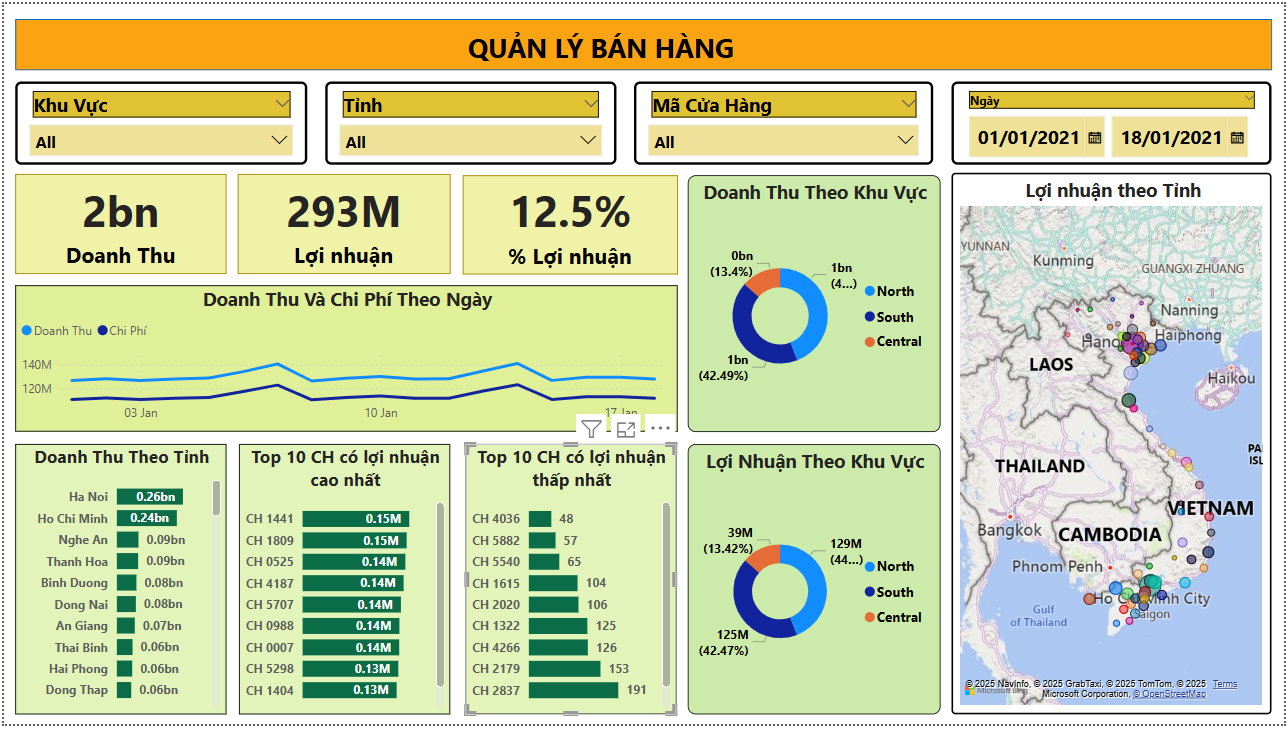

The page's visual inventory and layout, read from the dashboard file:
{"tool":"powerbi","page":{"name":"Page 1","canvas":[1280,720],"ordinal":0},"visuals":[{"type":"shape","box":[11,14.7,1257.1,51.4],"z":0},{"type":"textbox","box":[458.6,19.6,362,46.5],"z":1000},{"type":"slicer","fields":{"Values":["DS Tinh.Khu Vực"]},"box":[11,77,292.3,83.2],"z":2000},{"type":"slicer","fields":{"Values":["DS Tinh.Tỉnh"]},"box":[321.6,77,291,83.2],"z":3000},{"type":"slicer","fields":{"Values":["DS Cua Hang.Mã Cửa Hàng"]},"box":[629.8,77,299.6,83.2],"z":4000},{"type":"slicer","fields":{"Values":["Ket Qua KD.Ngày"]},"box":[947.7,77,320.4,83.2],"z":5000},{"type":"card","fields":{"Values":["Sum(Ket Qua KD.Doanh Thu)"]},"box":[11,170,211.6,100.3],"z":6000},{"type":"card","fields":{"Values":["Sum(Ket Qua KD.Lợi nhuận)"]},"box":[234.2,170,212.8,100.3],"z":7000},{"type":"card","fields":{"Values":["DS Cua Hang.% Lợi nhuận"]},"box":[458.6,171.2,215.2,99],"z":8000},{"type":"lineChart","title":"Doanh Thu Và Chi Phí Theo Ngày","fields":{"Y":["Sum(Ket Qua KD.Doanh Thu)","Sum(Ket Qua KD.Chi Phí)"],"Category":["Ket Qua KD.Ngày"]},"box":[11,281.3,662.8,146.7],"z":9000},{"type":"map","title":"Lợi nhuận theo Tỉnh","fields":{"Series":["DS Tinh.Tỉnh"],"Y":["DS Tinh.latitude"],"X":["DS Tinh.longitude"],"Size":["Sum(Ket Qua KD.Lợi nhuận)"]},"box":[947.7,168.8,320.4,541.7],"z":9001},{"type":"donutChart","title":"Doanh Thu Theo Khu Vực","fields":{"Y":["Sum(Ket Qua KD.Doanh Thu)"],"Category":["DS Tinh.Khu Vực"]},"box":[683.6,171.2,253.1,256.8],"z":9002},{"type":"donutChart","title":"Lợi Nhuận Theo Khu Vực","fields":{"Category":["DS Tinh.Khu Vực"],"Y":["Sum(Ket Qua KD.Lợi nhuận)"]},"box":[683.6,440.2,253.1,270.2],"z":9003},{"type":"barChart","title":"Doanh Thu Theo Tỉnh","fields":{"Category":["DS Tinh.Tỉnh"],"Y":["Sum(Ket Qua KD.Doanh Thu)"]},"box":[11,440.2,211.6,270.2],"z":9006},{"type":"barChart","title":"Top 10 CH có lợi nhuận cao nhất","fields":{"Category":["DS Cua Hang.Mã Cửa Hàng"],"Y":["Sum(Ket Qua KD.Lợi nhuận)"]},"box":[235.4,440.2,211.6,270.2],"z":9007},{"type":"barChart","title":"Top 10 CH có lợi nhuận thấp nhất","fields":{"Y":["Sum(Ket Qua KD.Lợi nhuận)"],"Category":["DS Cua Hang.Mã Cửa Hàng"]},"box":[461.1,440.5,211.3,270.3],"z":9008}]}

Visuals, with their boxes in screenshot pixels (x1, y1, x2, y2), scaled from the page's 1280x720 canvas onto the 1288x730 screenshot:
shape: l=11, t=15, r=1276, b=67
textbox: l=461, t=20, r=826, b=67
slicer - DS Tinh.Khu Vực: l=11, t=78, r=305, b=162
slicer - DS Tinh.Tỉnh: l=324, t=78, r=616, b=162
slicer - DS Cua Hang.Mã Cửa Hàng: l=634, t=78, r=935, b=162
slicer - Ket Qua KD.Ngày: l=954, t=78, r=1276, b=162
card - Sum(Ket Qua KD.Doanh Thu): l=11, t=172, r=224, b=274
card - Sum(Ket Qua KD.Lợi nhuận): l=236, t=172, r=450, b=274
card - DS Cua Hang.% Lợi nhuận: l=461, t=174, r=678, b=274
"Doanh Thu Và Chi Phí Theo Ngày" lineChart: l=11, t=285, r=678, b=434
"Lợi nhuận theo Tỉnh" map: l=954, t=171, r=1276, b=720
"Doanh Thu Theo Khu Vực" donutChart: l=688, t=174, r=943, b=434
"Lợi Nhuận Theo Khu Vực" donutChart: l=688, t=446, r=943, b=720
"Doanh Thu Theo Tỉnh" barChart: l=11, t=446, r=224, b=720
"Top 10 CH có lợi nhuận cao nhất" barChart: l=237, t=446, r=450, b=720
"Top 10 CH có lợi nhuận thấp nhất" barChart: l=464, t=447, r=677, b=721
